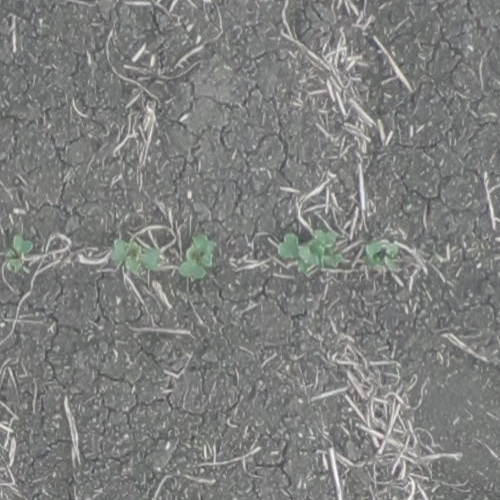clumped: (277, 231, 343, 274)
isolated: (112, 239, 158, 272), (181, 235, 214, 279), (7, 235, 33, 271), (365, 241, 399, 266)
